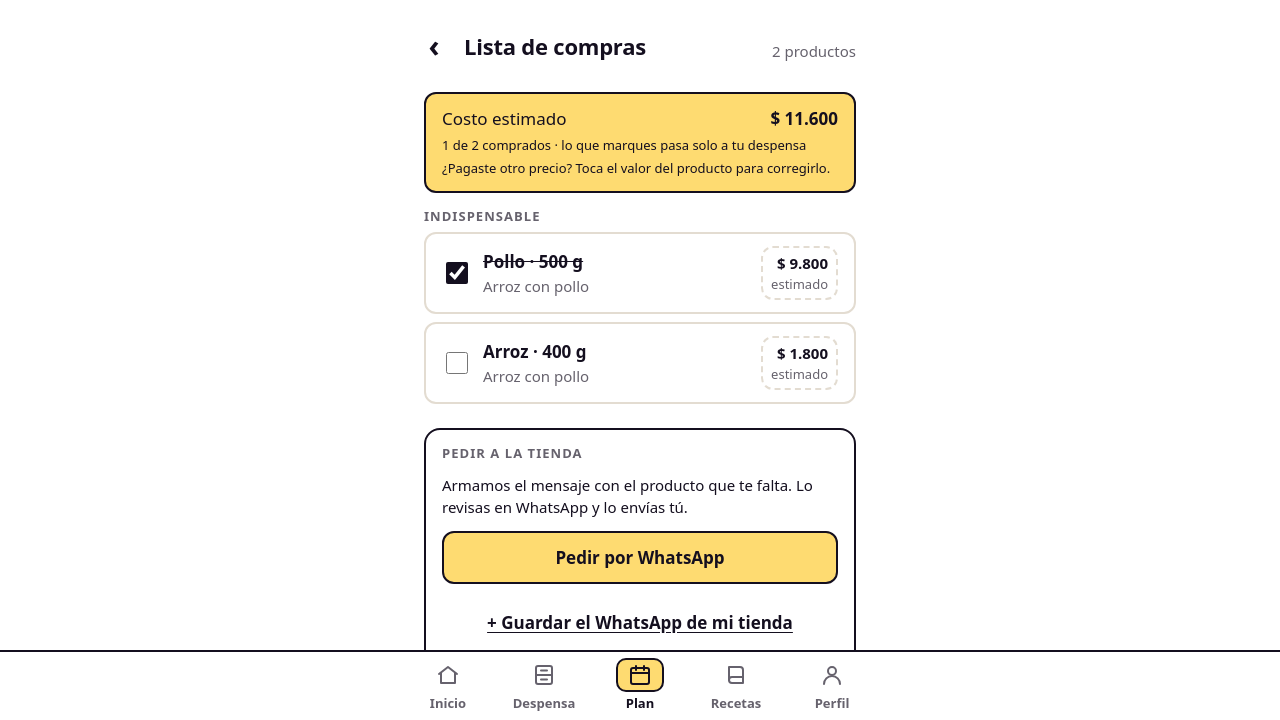
Test case: Lista de compras (pantalla 31) › se corrige lo que se pagó de verdad y el total se ajusta (KAN-26)
Expected: the text "¿Pagaste otro precio? Toca el valor del producto para corregirlo." is shown, [442,159,838,178]
Click the button with aria-label "Corregir el precio de Pollo" at (800, 273), box [761,246,838,300]
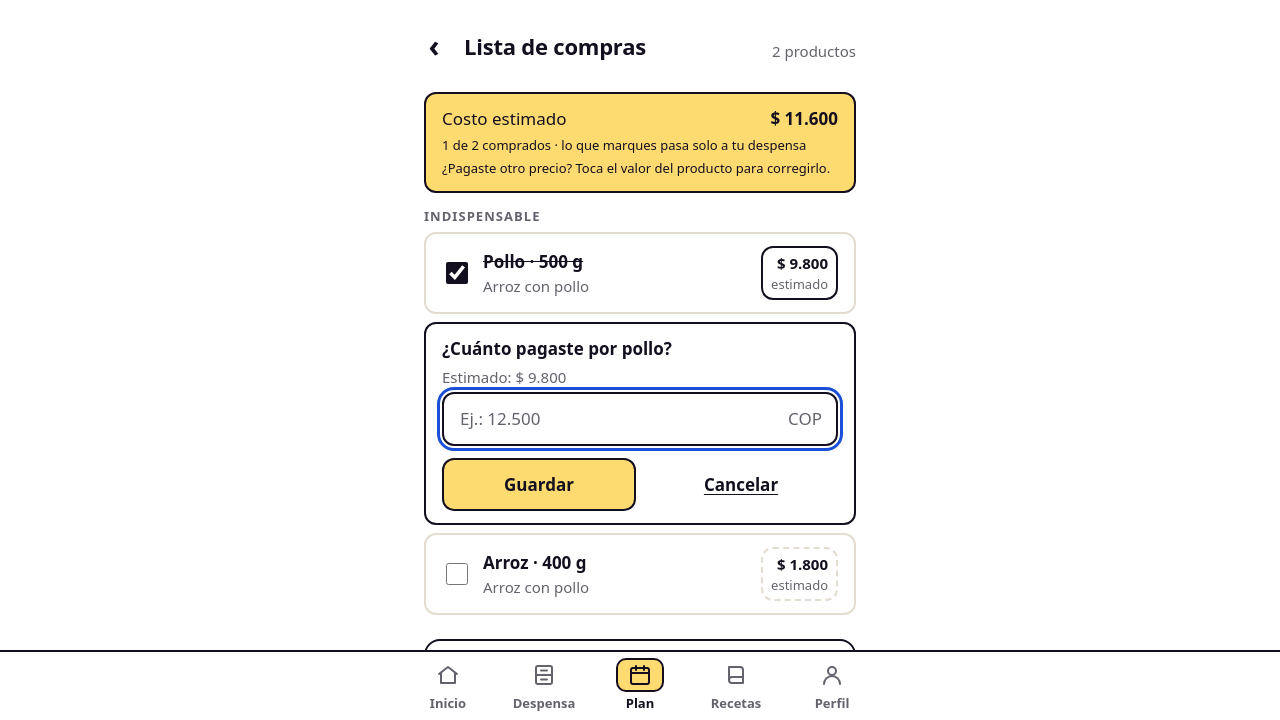
Click the button "Guardar" at (539, 484), box [442,458,636,511]
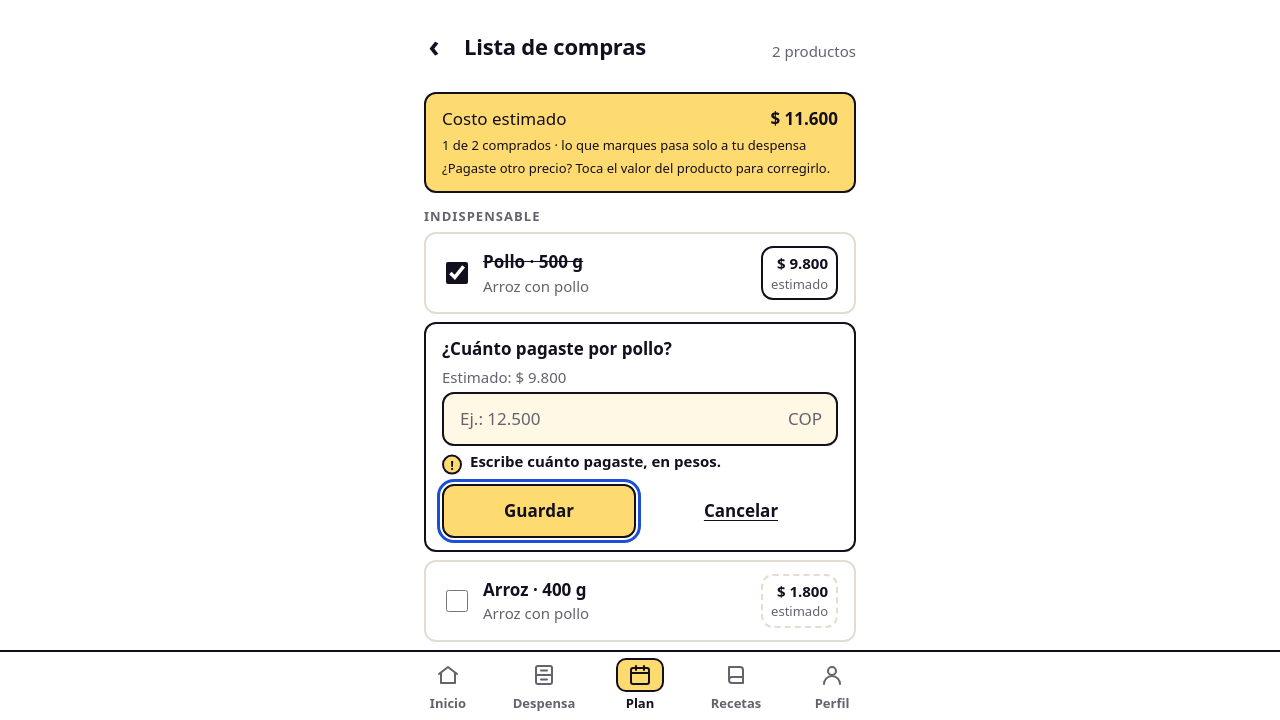
Expected: the text "Escribe cuánto pagaste, en pesos." is shown, [470,451,721,471]
Type "$12.500" into the field labelled "¿Cuánto pagaste por pollo?" at (640, 419), box [442,392,838,446]
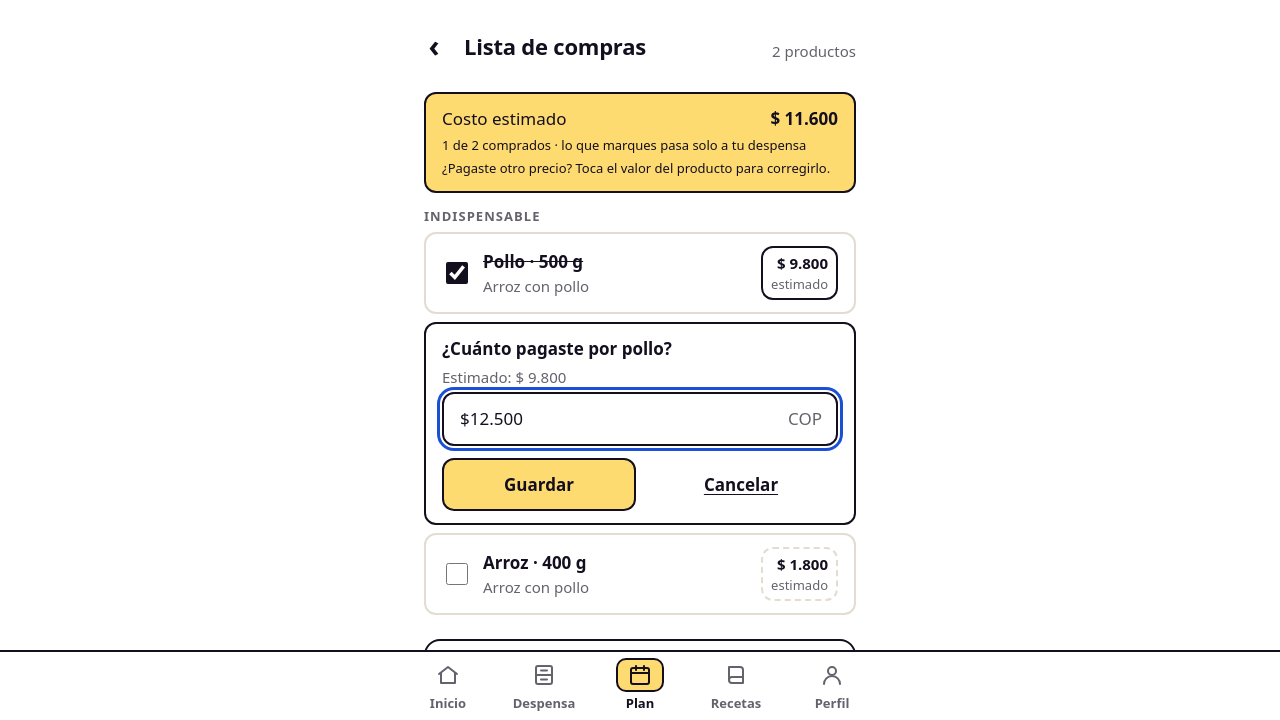
Click the button "Guardar" at (539, 484), box [442,458,636,511]
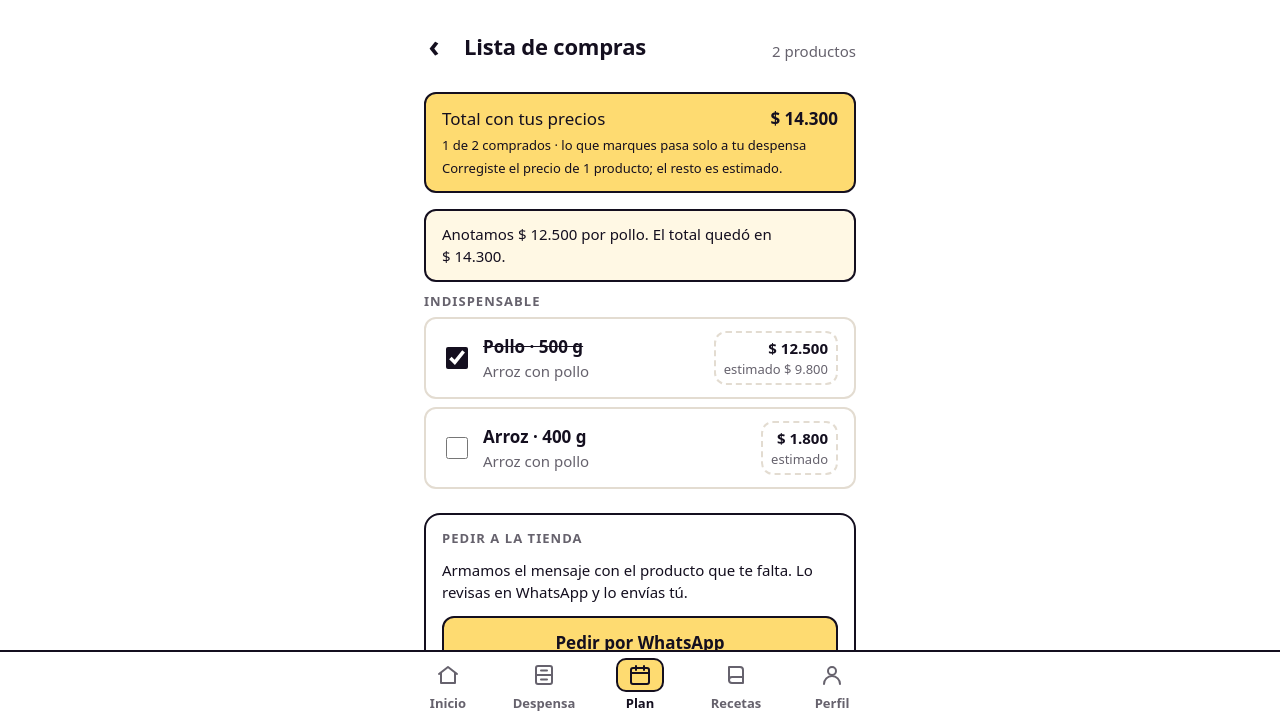
Expected: the text "Anotamos $ 12.500 por pollo. El total quedó en $ 14.300." is shown, [424,208,856,282]
Expected: the element named "Total de la lista" shows "Total con tus precios", [442,107,605,130]
Expected: the element named "Total de la lista" shows "14.300", [770,107,838,130]
Volver al estimado.
Click the button with aria-label "Corregir el precio de Pollo" at (776, 358), box [714,331,838,385]
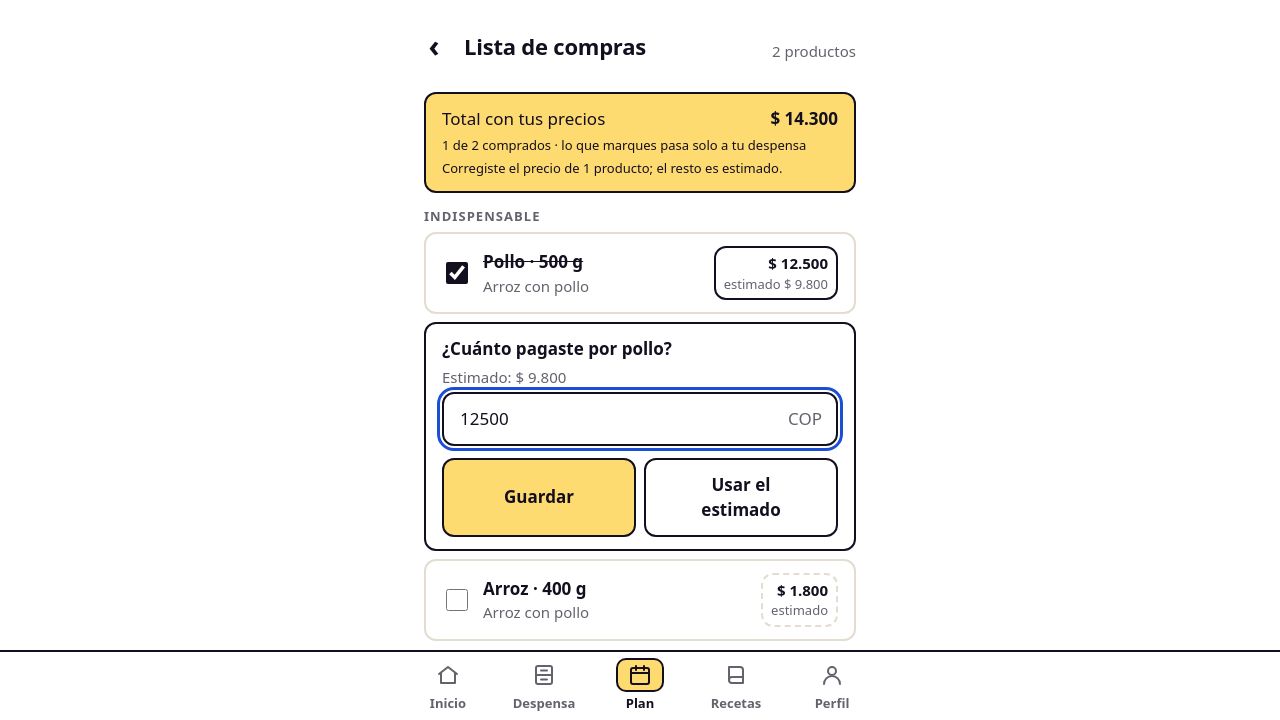
Click the button "Usar el estimado" at (741, 497), box [644,458,838,537]
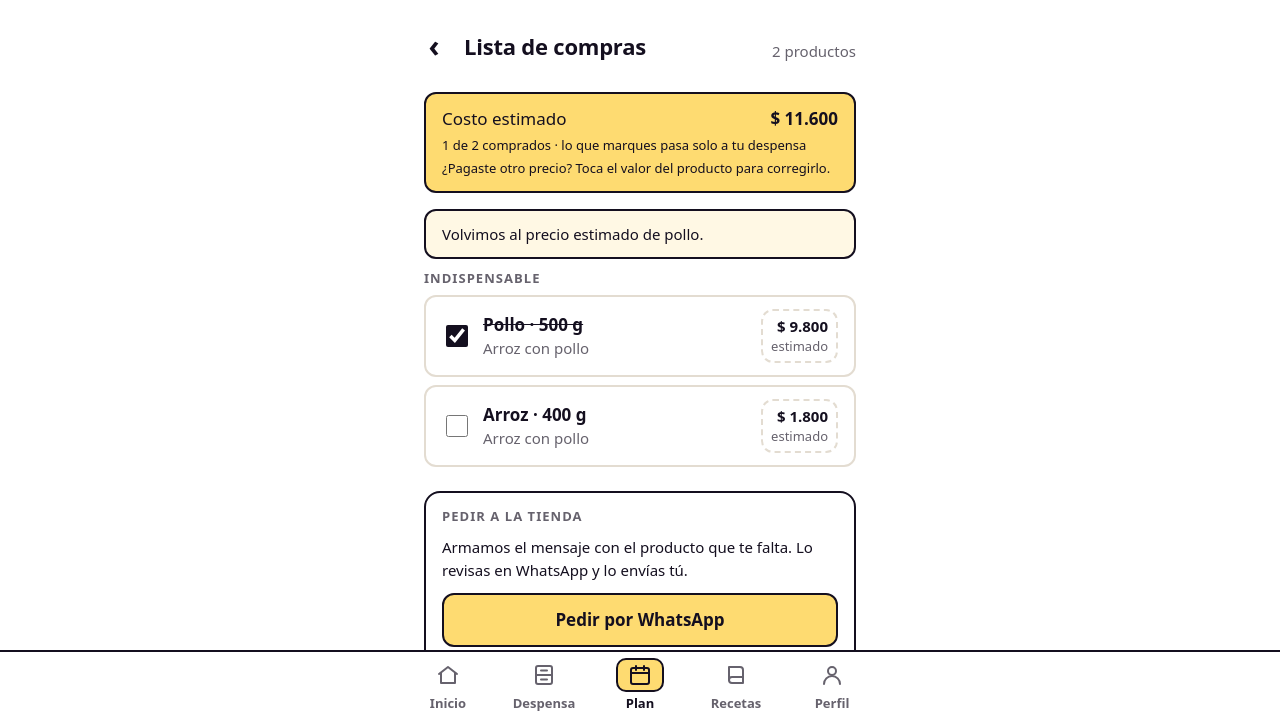
Expected: the text "Volvimos al precio estimado de pollo." is shown, [424,208,856,259]
Expected: the element named "Total de la lista" shows "Costo estimado", [442,107,566,130]
